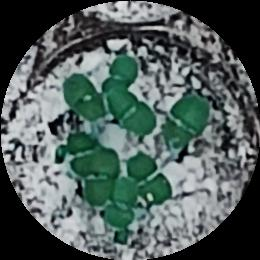Basil: (164, 94, 209, 149), (131, 155, 177, 206), (105, 176, 142, 229), (105, 94, 154, 134), (85, 147, 117, 206), (65, 75, 100, 122), (102, 55, 142, 94), (62, 133, 94, 169)
